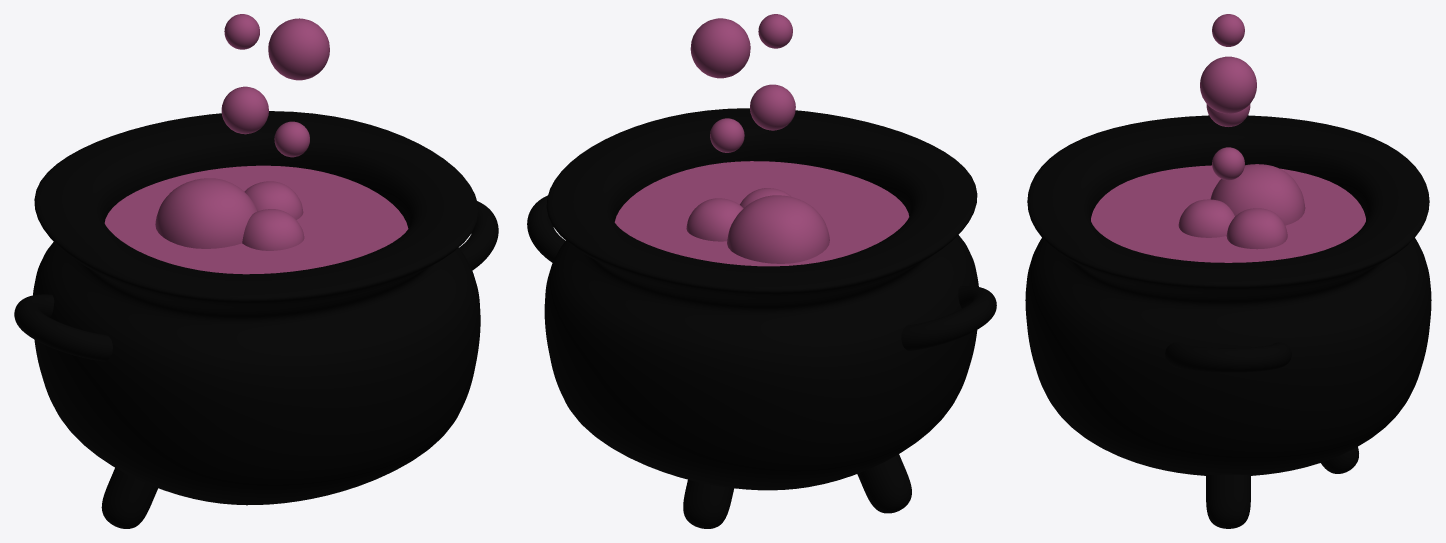
File: caldero_rosa.glb
The picture shows the model from 3 angles, left to right: view 1: azimuth 30°, elevation 25°; view 2: azimuth 150°, elevation 25°; view 3: azimuth 270°, elevation 25°; orthographic projection. The views are drawn at different scales.
Parts seen in each view (by area): view 1: Cubo.010, Círculo.001, Cubo.013, Toroide.002, Esfera.002, Cubo.011, Esfera.001, Esfera.003, Esfera; view 2: Cubo.010, Círculo.001, Cubo.013, Toroide.002, Esfera.002, Cubo.011, Cubo.012, Esfera.001, Esfera.003, Esfera; view 3: Cubo.010, Círculo.001, Cubo.013, Toroide.002, Esfera.002, Cubo.011, Esfera.003, Esfera, Cubo.012, Esfera.001.
Boxes of the visible parts, box(x1,y1,x2,y2) form: Cubo.010: box(33, 111, 480, 505); Círculo.001: box(104, 165, 408, 274); Cubo.013: box(155, 178, 304, 250); Toroide.002: box(14, 201, 498, 361); Esfera.002: box(268, 18, 329, 80); Cubo.011: box(101, 468, 157, 528); Esfera.001: box(221, 86, 268, 134); Esfera.003: box(224, 14, 259, 49); Esfera: box(274, 121, 309, 157); Cubo.010: box(544, 108, 978, 490); Círculo.001: box(614, 161, 909, 266); Cubo.013: box(686, 188, 829, 263); Toroide.002: box(527, 195, 996, 350); Esfera.002: box(690, 18, 750, 78); Cubo.011: box(857, 454, 911, 513); Cubo.012: box(683, 479, 734, 528); Esfera.001: box(750, 84, 795, 130); Esfera.003: box(758, 14, 792, 48); Esfera: box(710, 118, 744, 152); Cubo.010: box(1025, 115, 1431, 475); Círculo.001: box(1091, 165, 1365, 262); Cubo.013: box(1178, 164, 1305, 249); Toroide.002: box(1165, 342, 1291, 372); Esfera.002: box(1200, 56, 1256, 113); Cubo.011: box(1206, 474, 1250, 528); Esfera.003: box(1212, 14, 1244, 46); Esfera: box(1212, 147, 1244, 180); Cubo.012: box(1321, 447, 1358, 473); Esfera.001: box(1206, 104, 1250, 126).
Bounding box in the file's own units: 6.42 × 6.43 × 5.25.
